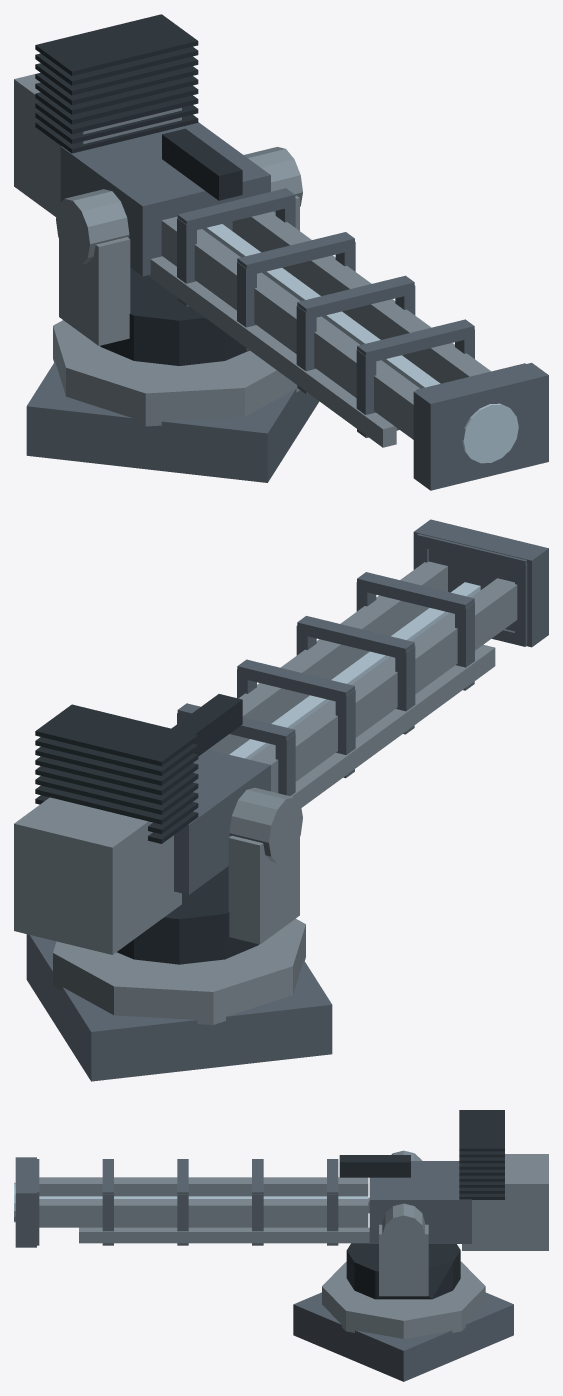
Rendered from lancer_t3_d0.meshopt.glb.
3 views of the same model, one above another, from view 1: azimuth 30°, elevation 25°; view 2: azimuth 150°, elevation 25°; view 3: azimuth 270°, elevation 25° (orthographic). The views are drawn at different scales.
Visible parts, largest first — view 1: ROOT_ARMOR_GEOMETRY; view 2: ROOT_ARMOR_GEOMETRY; view 3: ROOT_ARMOR_GEOMETRY.
Boxes of the visible parts, <box> form: ROOT_ARMOR_GEOMETRY: <box>14,14,548,490</box>; ROOT_ARMOR_GEOMETRY: <box>14,519,548,1081</box>; ROOT_ARMOR_GEOMETRY: <box>14,1110,548,1381</box>.
Bounding box in the file's own units: 1.55 × 1.6 × 3.76.
